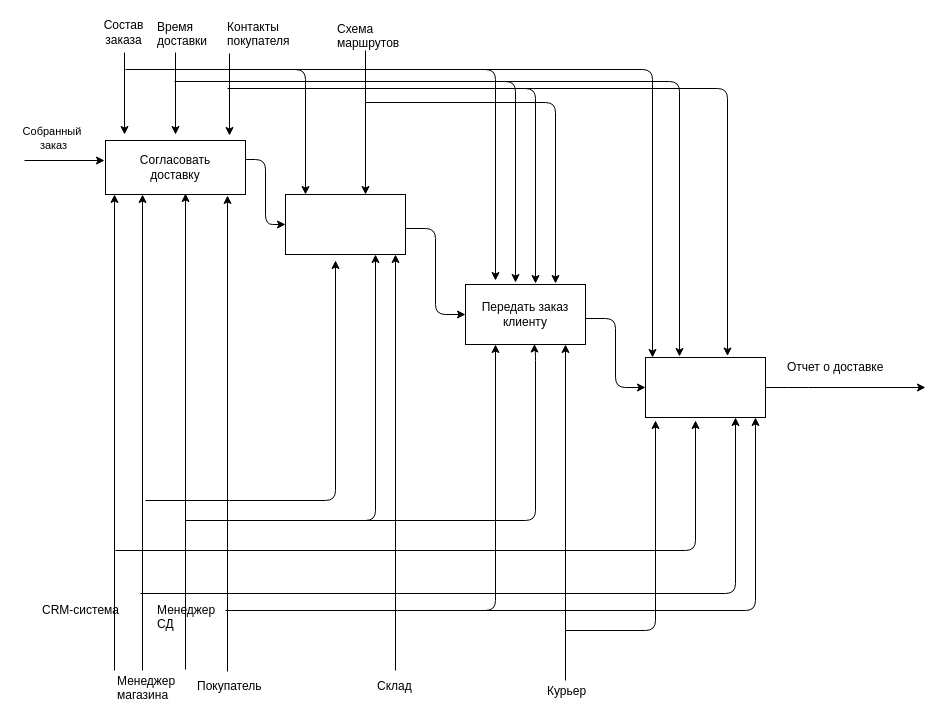
Image size: 951x720. Some labels were removed from this diagram. The centre of each missing label's shape, as x and y in pixels:
"Передать заказ в СД" goes at pixel 345 224.
"Сформировать отчет о доставке" goes at pixel 705 387.
